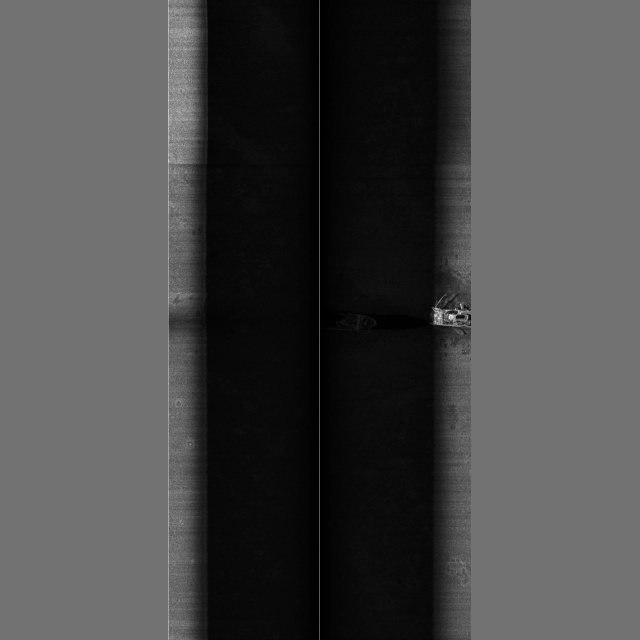Shipwreck: (320, 293, 471, 335)
